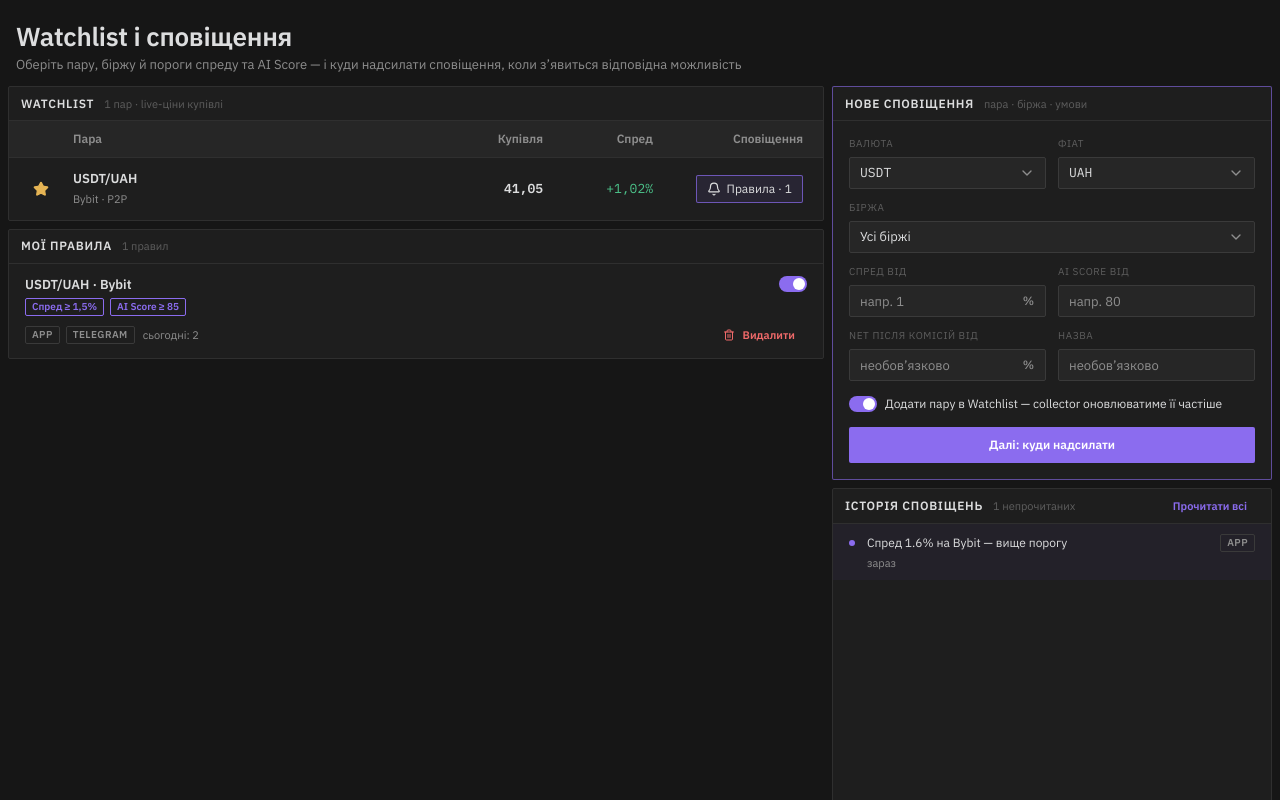
Test: сторінка «Watchlist і сповіщення» › без жодної умови далі не пускає
This screenshot has width=1280, height=800.
Click the button "Далі: куди надсилати": {"x": 1052, "y": 445} [849,427,1255,463]
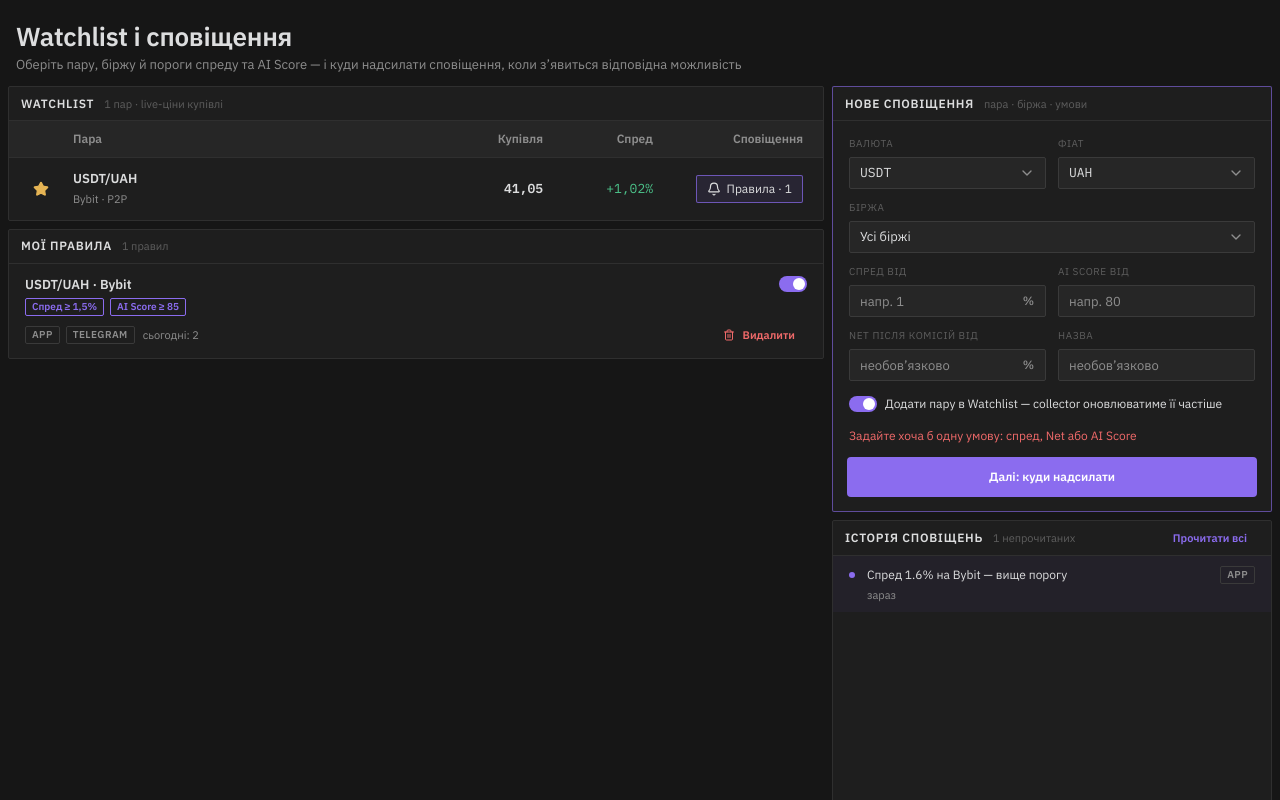
Check: the message shows "Задайте хоча б одну умову", box [849,428,1137,443]
